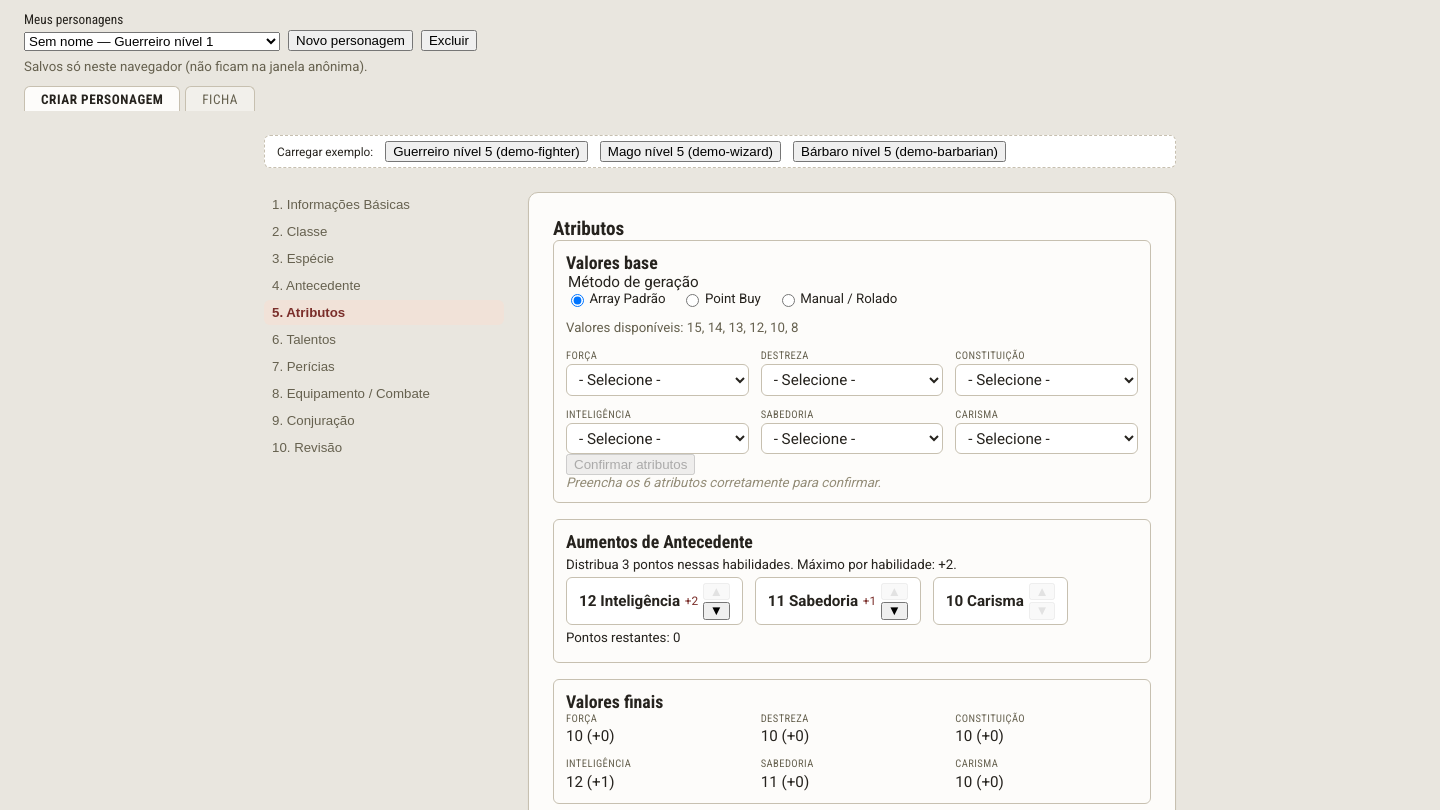
it: BuilderWizard — canAdvance explica exatamente o que falta (CONSOLIDAÇÃO DO BUILDER §9) › 'Atributos' bloqueia Avançar enquanto os 6 atributos não forem gerados/confirmados
The image size is (1440, 810).
Select "15" in the dropdown labelled "Força" at (657, 380), box x1=566 y1=364 x2=749 y2=396
Select "14" in the dropdown labelled "Destreza" at (852, 380), box x1=761 y1=364 x2=943 y2=396
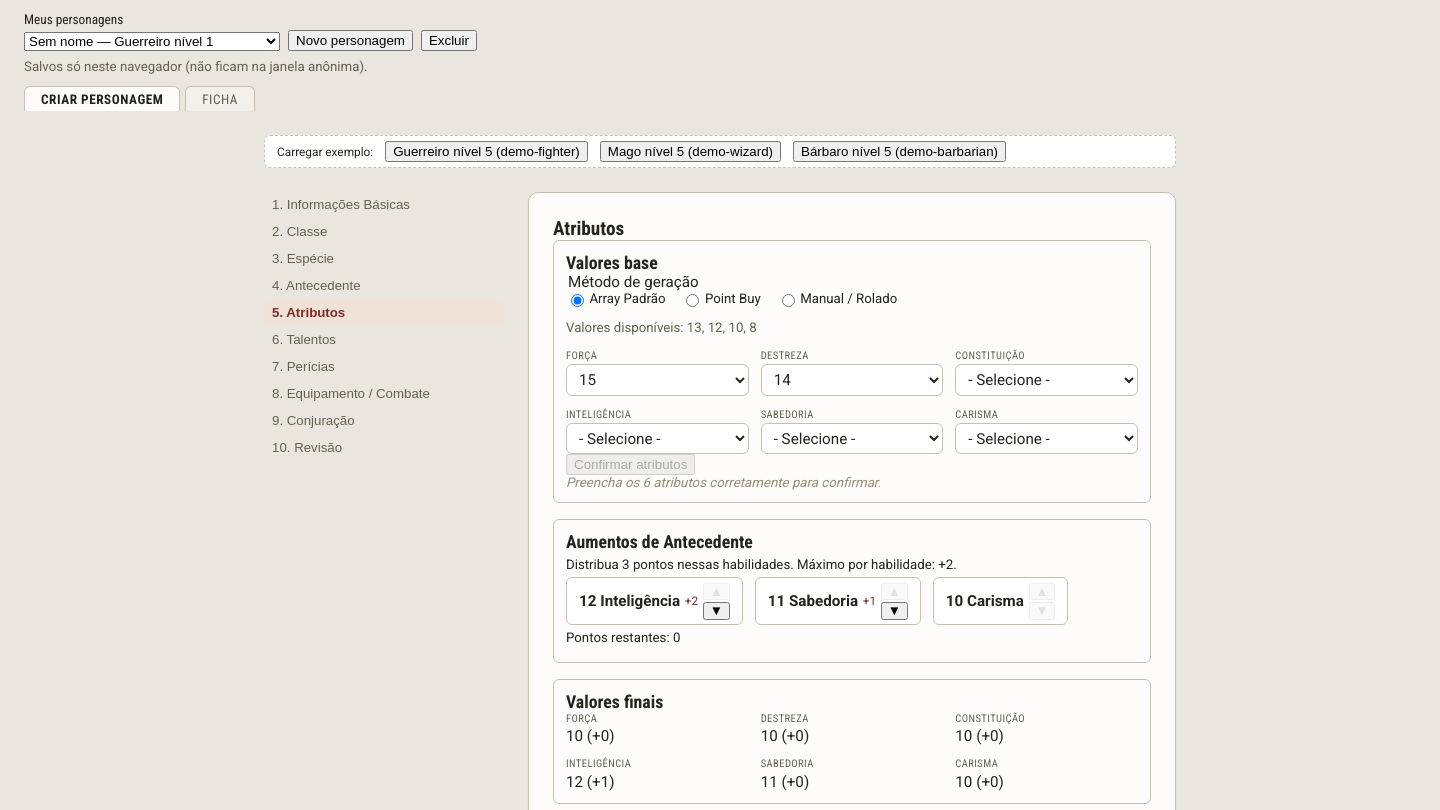
Select "13" in the dropdown labelled "Constituição" at (1047, 380), box x1=955 y1=364 x2=1138 y2=396
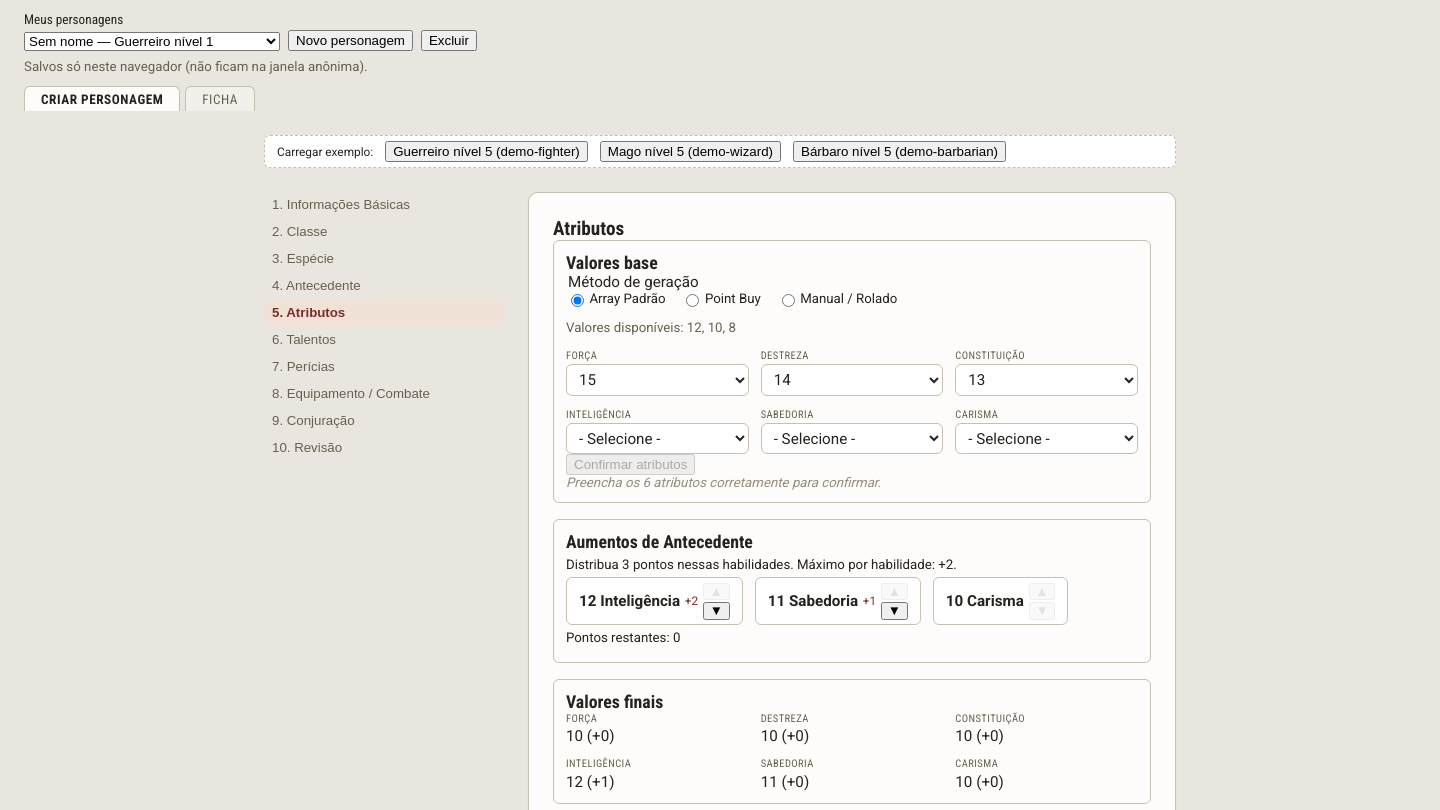
Select "12" in the dropdown labelled "Inteligência" at (657, 439), box x1=566 y1=423 x2=749 y2=454
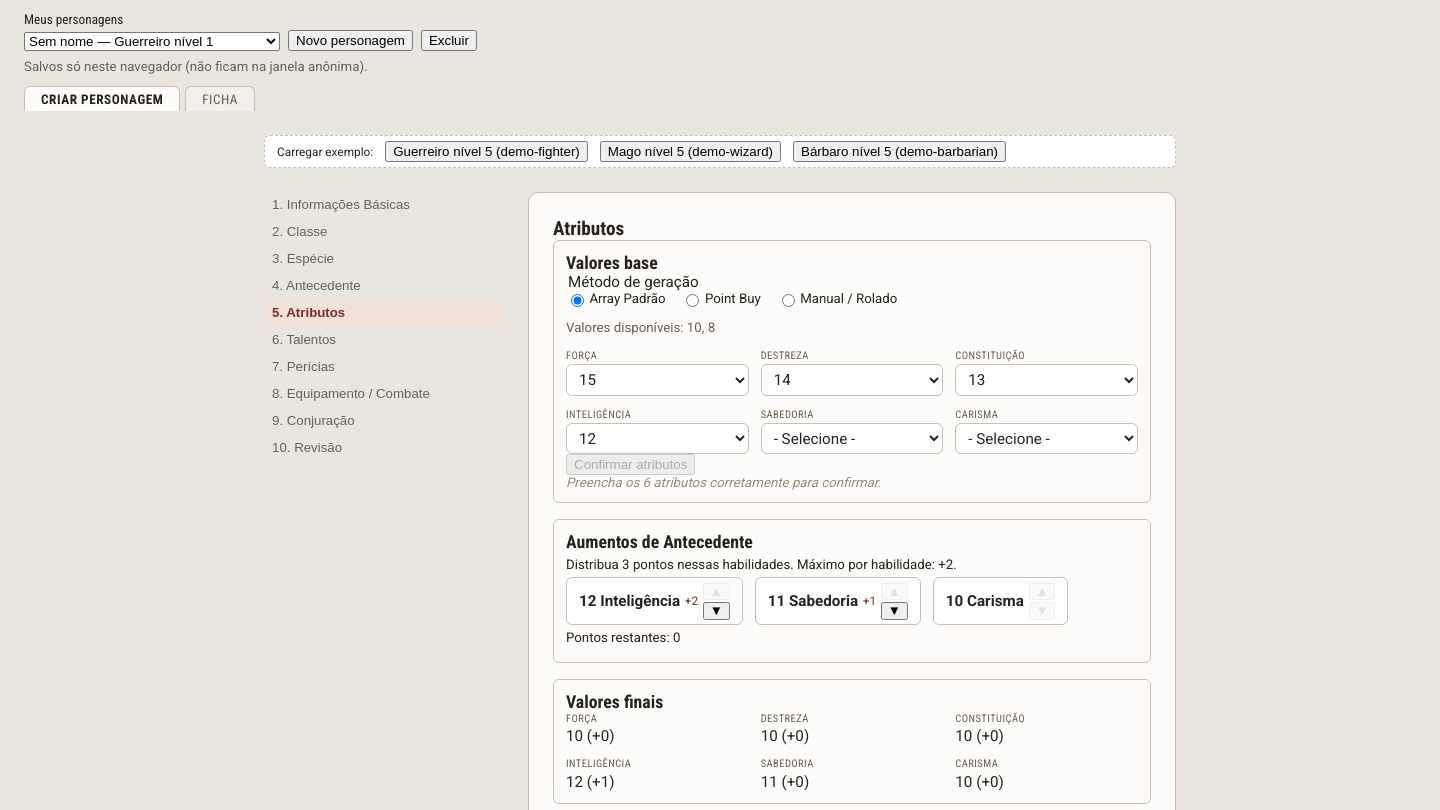
Select "10" in the dropdown labelled "Sabedoria" at (852, 439), box x1=761 y1=423 x2=943 y2=454
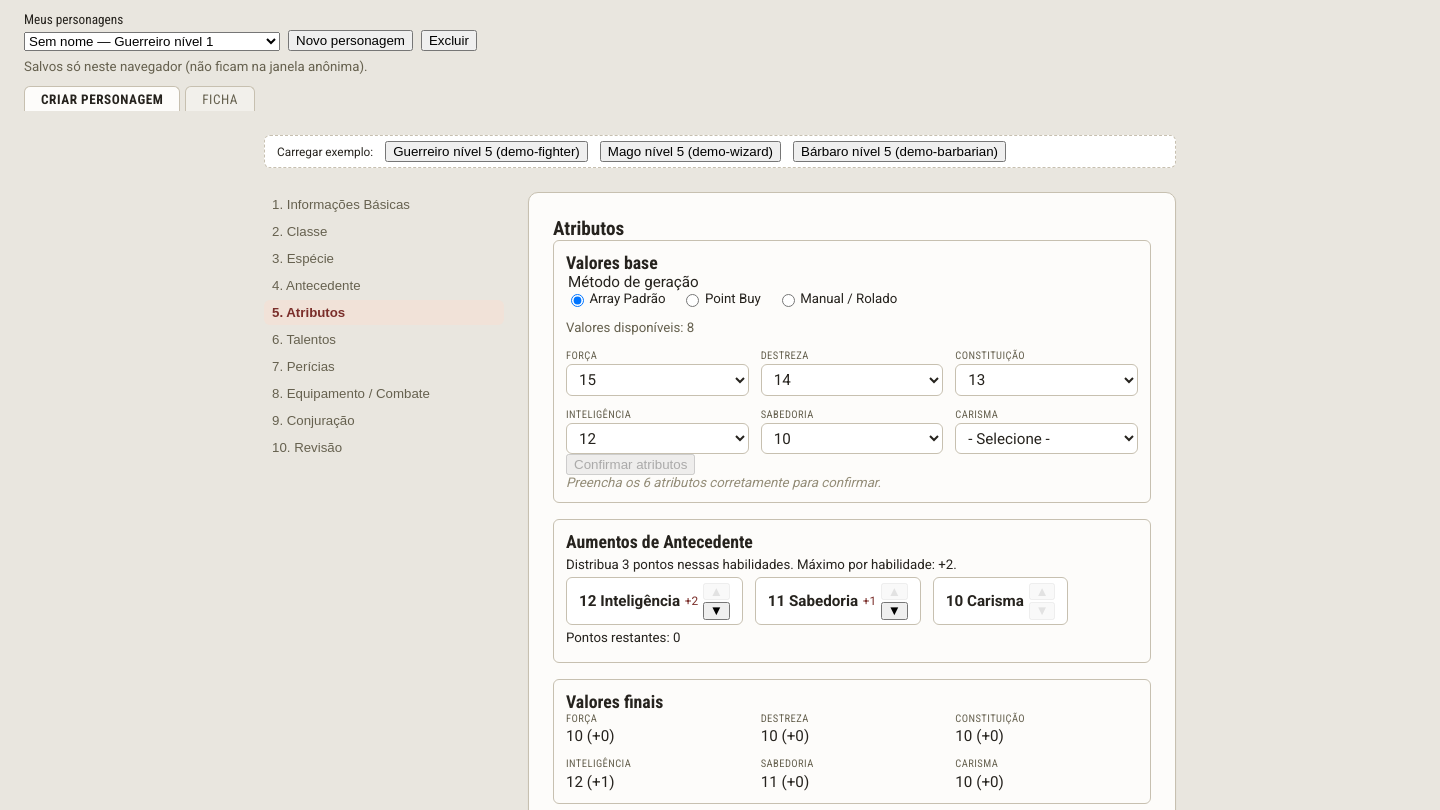
Select "8" in the dropdown labelled "Carisma" at (1047, 439), box x1=955 y1=423 x2=1138 y2=454
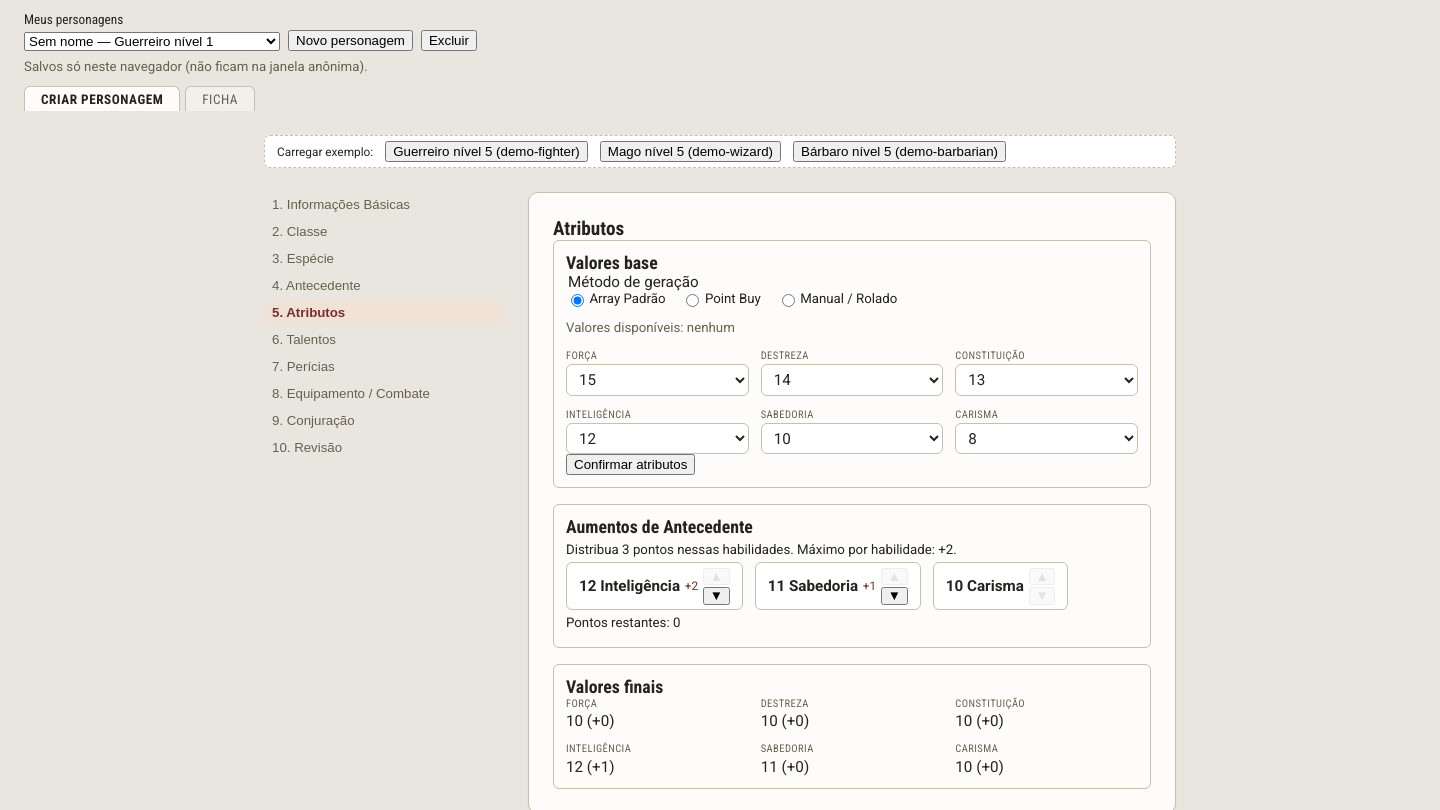
Click the button "Confirmar atributos" at (631, 465), box x1=566 y1=454 x2=695 y2=476
(page scrolled)
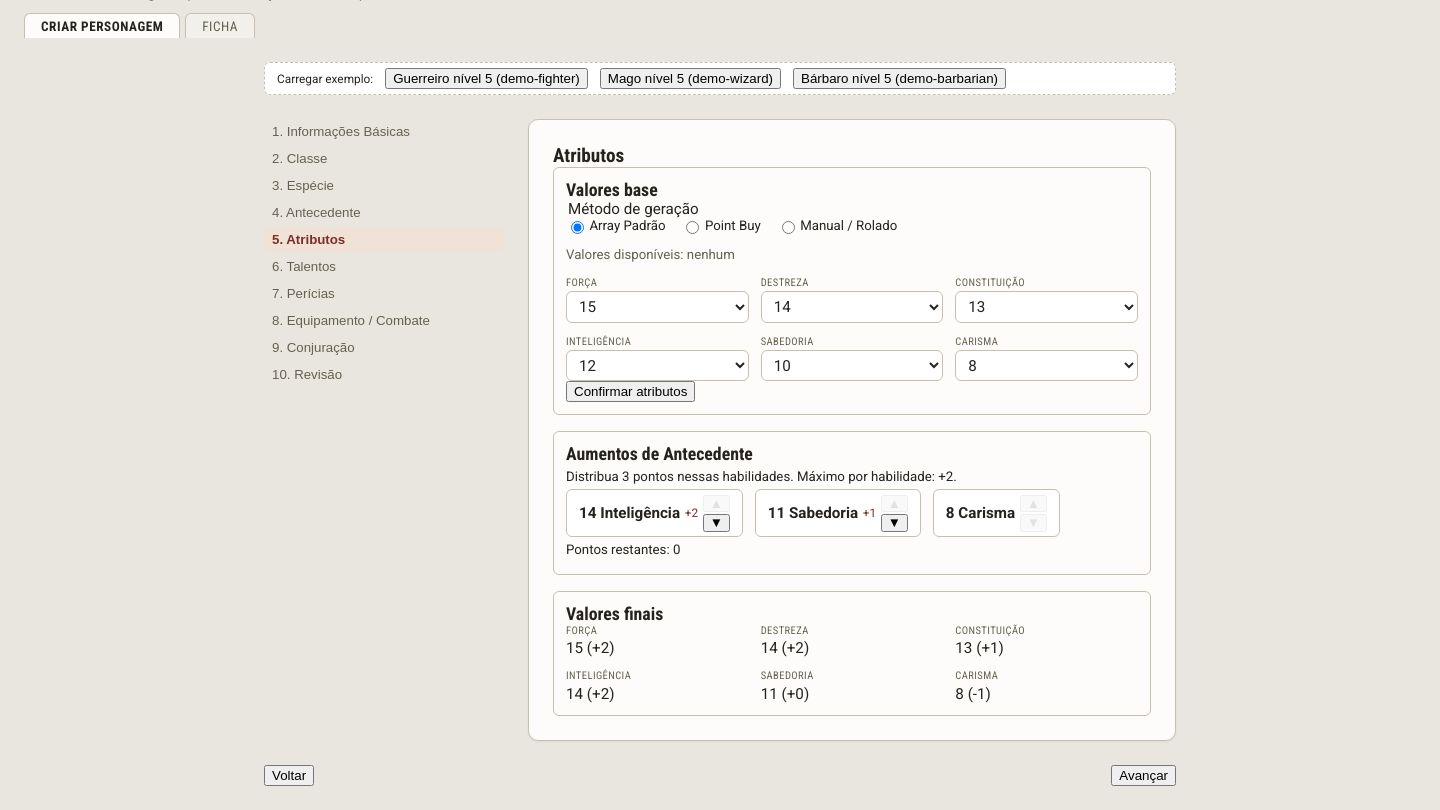
Expected: the button "Avançar" is enabled, x1=1111 y1=765 x2=1176 y2=786
